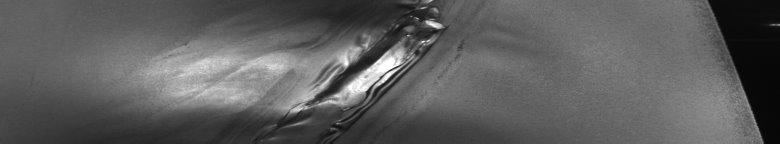ke: (269, 6, 449, 136)
